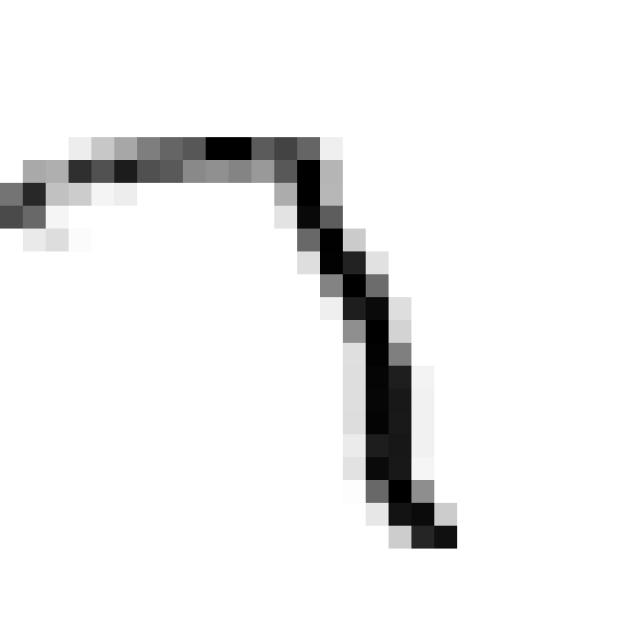6 -six-: (0, 117, 476, 572)
